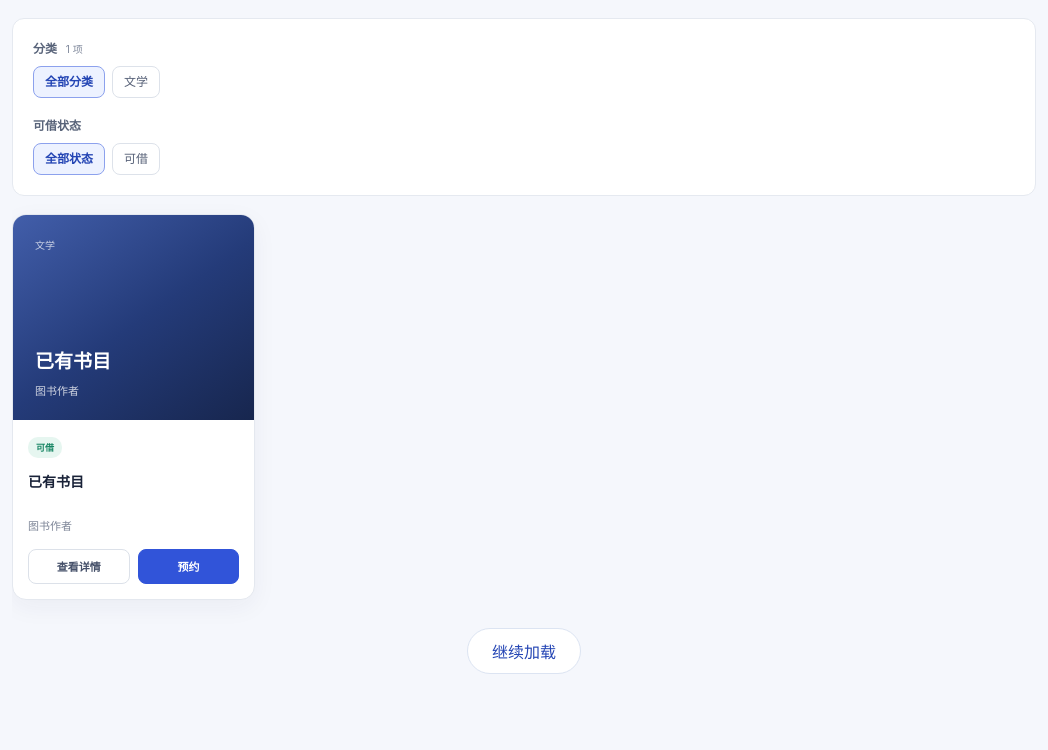
Test: HomePage › retains existing cards and retries the same cursor after an append failure
(page scrolled)
Step 1. Click the button with test id "home-load-more" → [524, 650], box x1=467 y1=628 x2=581 y2=674
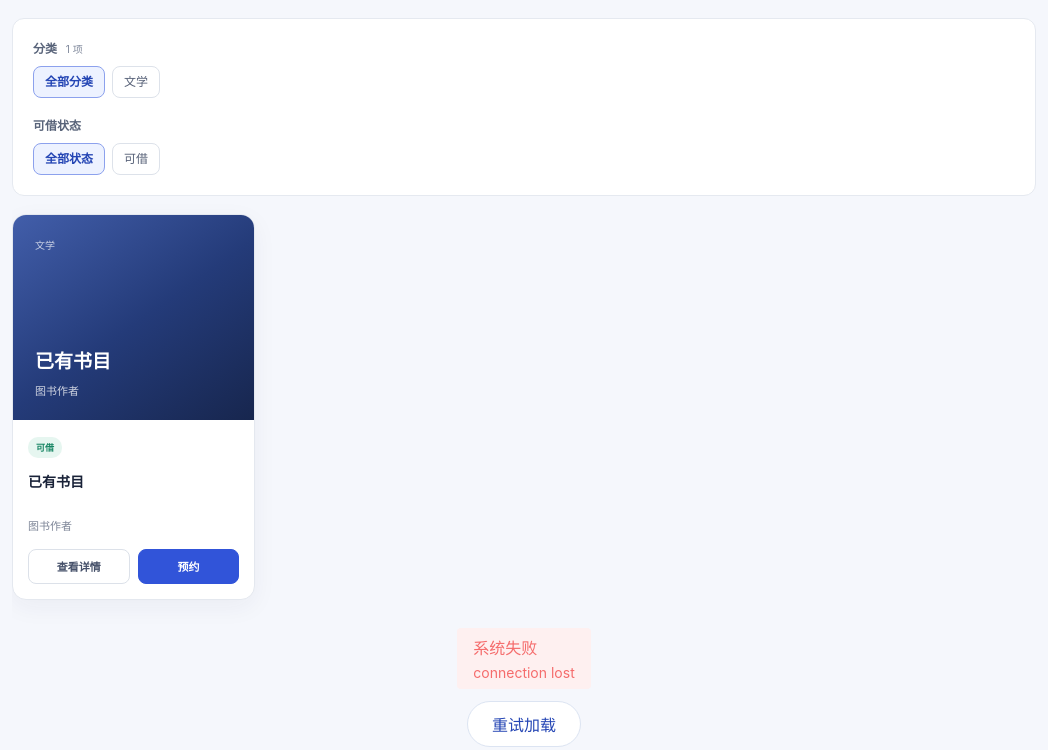
Expected: the text "已有书目" is shown, x1=35 y1=351 x2=111 y2=372
Result: the element with test id "error-alert" is shown at x1=457 y1=628 x2=591 y2=688
Step 2. Click the button with test id "home-load-more" → [524, 724], box x1=467 y1=700 x2=581 y2=746
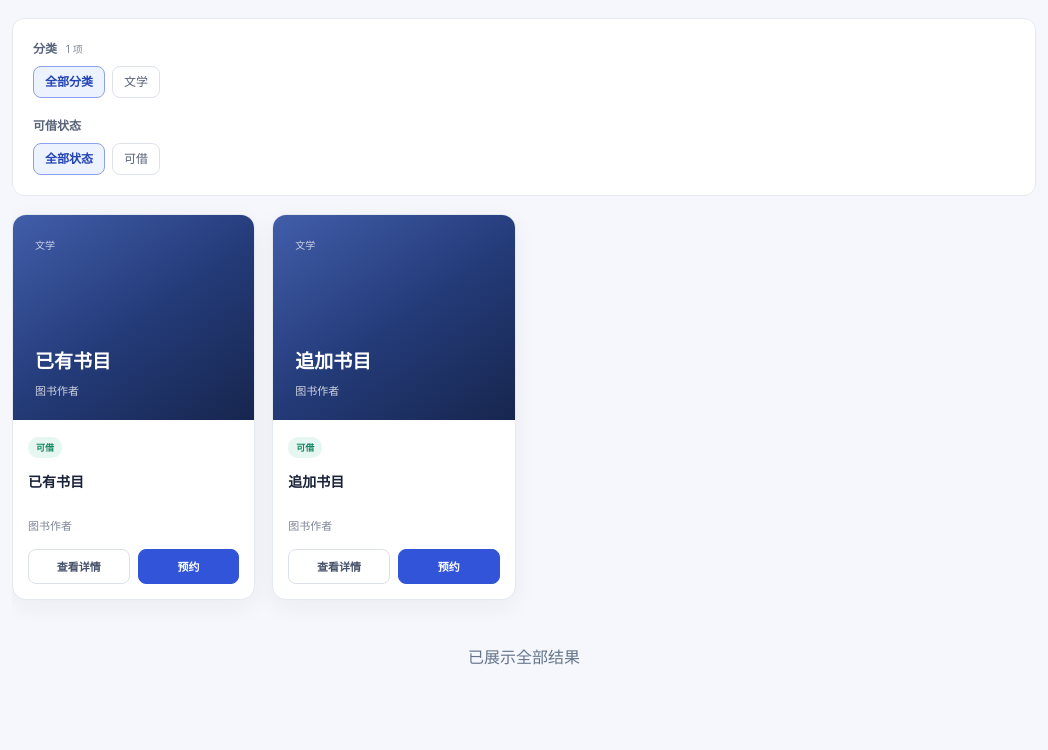
Expected: the text "已有书目" is shown, x1=35 y1=351 x2=111 y2=372
Result: the text "追加书目" is shown at x1=295 y1=351 x2=371 y2=372
